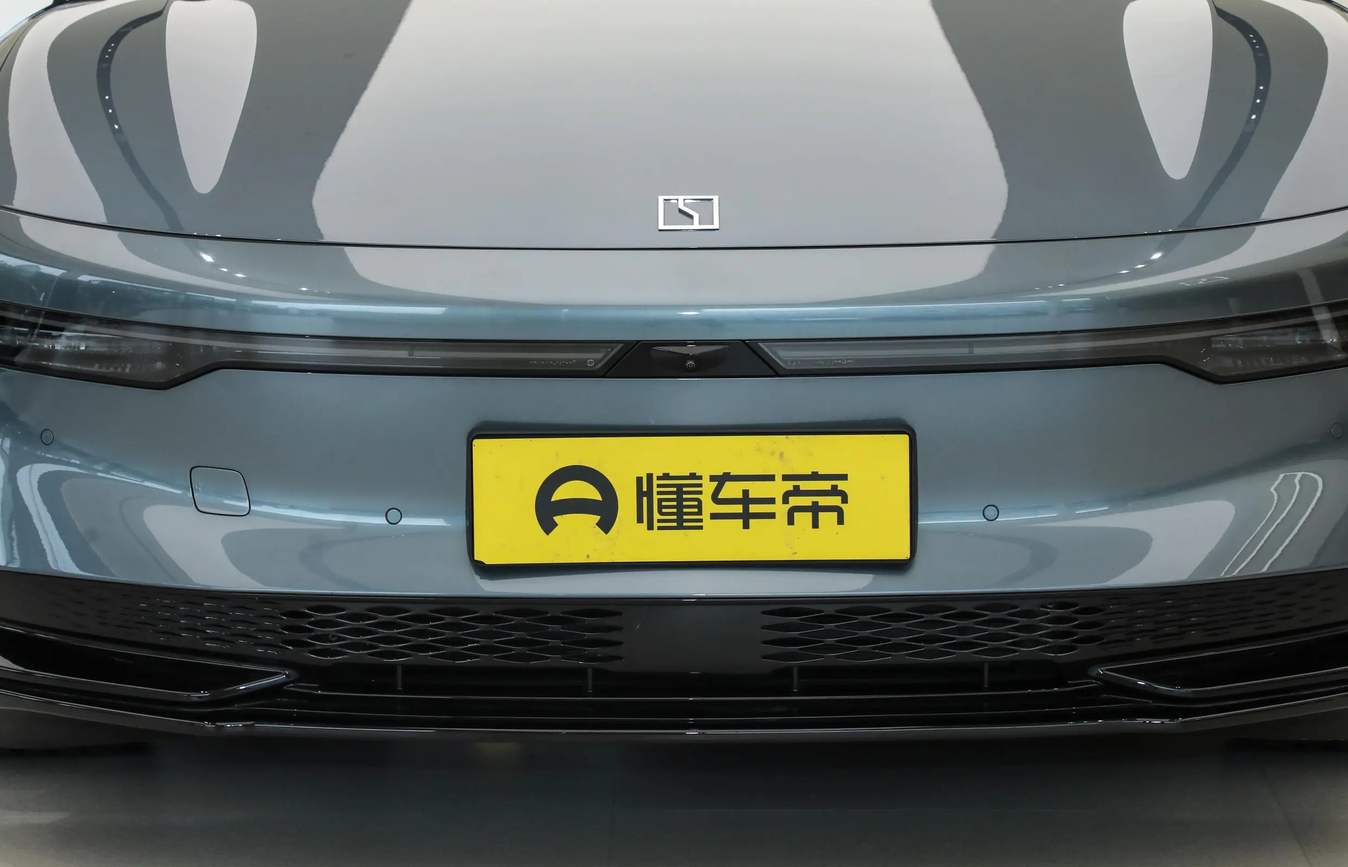ZEEKR: (659, 196, 719, 229)
